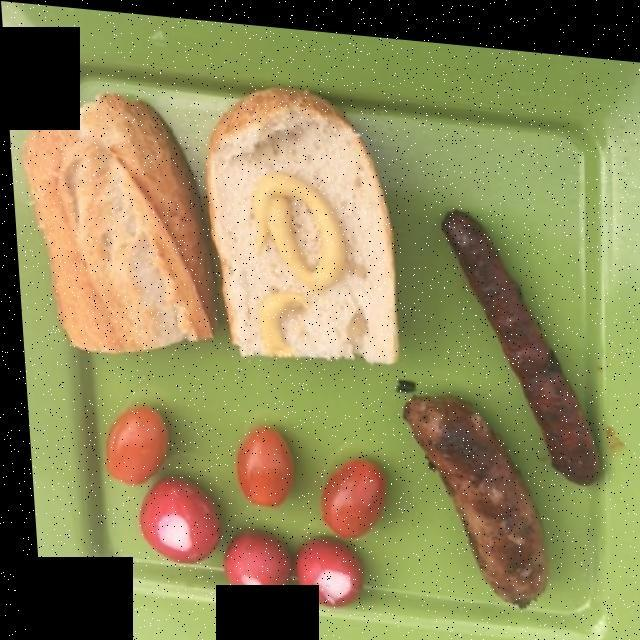bread: (32, 79, 402, 355)
mustard: (244, 161, 347, 344)
radish: (135, 468, 367, 608)
sausage: (400, 379, 545, 595)
tomato: (92, 397, 383, 532)
